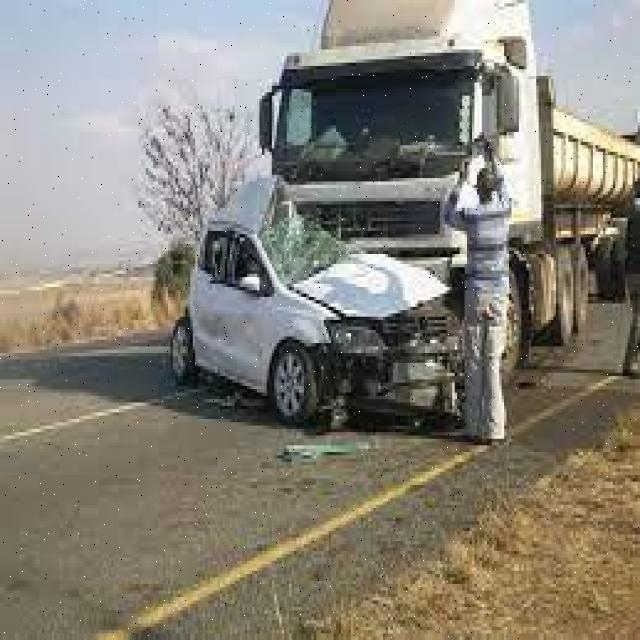severe: (0, 0, 2, 2)
